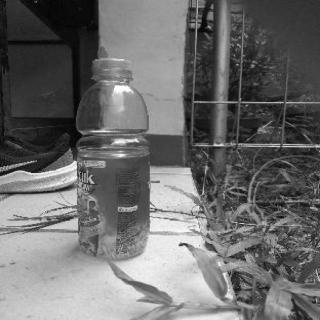plastic_bottles: (73, 57, 155, 263)
